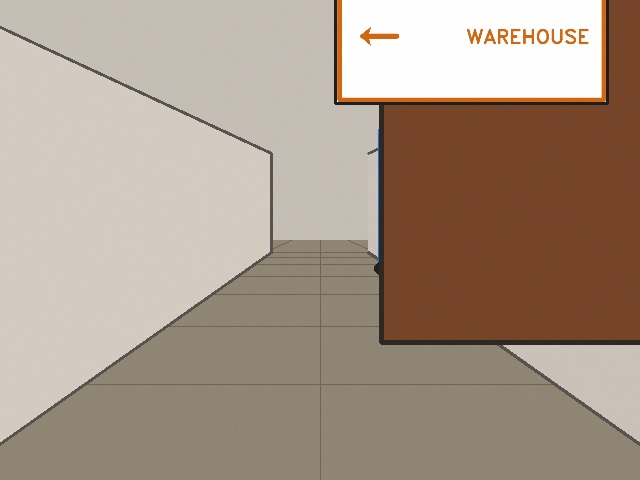directional_sign: (335, 0, 607, 103)
door: (381, 0, 639, 342)
forklift: (416, 4, 639, 306)
person: (378, 131, 418, 268)
